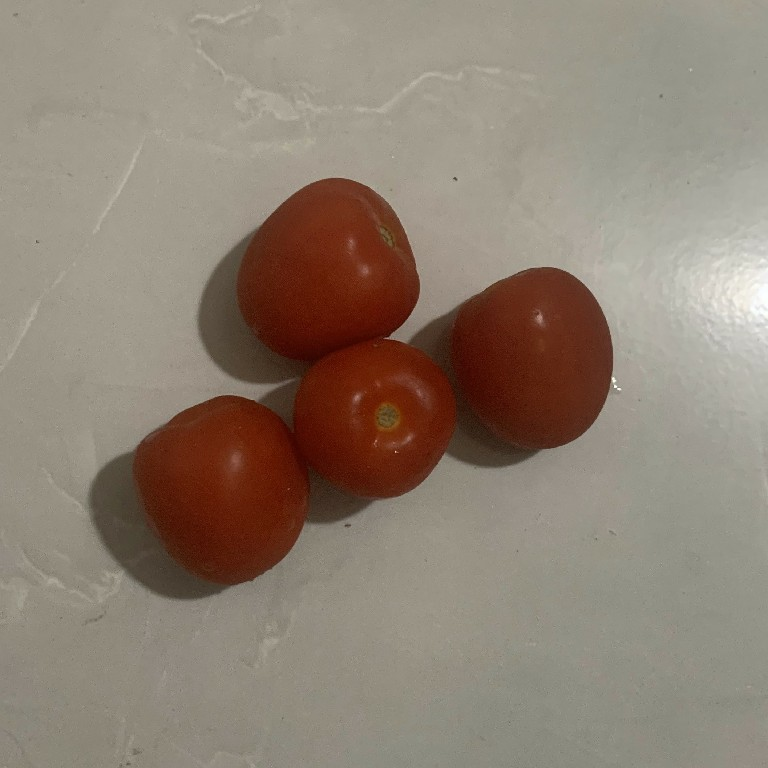OK: (127, 392, 309, 584), (239, 176, 425, 356), (294, 341, 460, 500), (456, 272, 601, 436)
